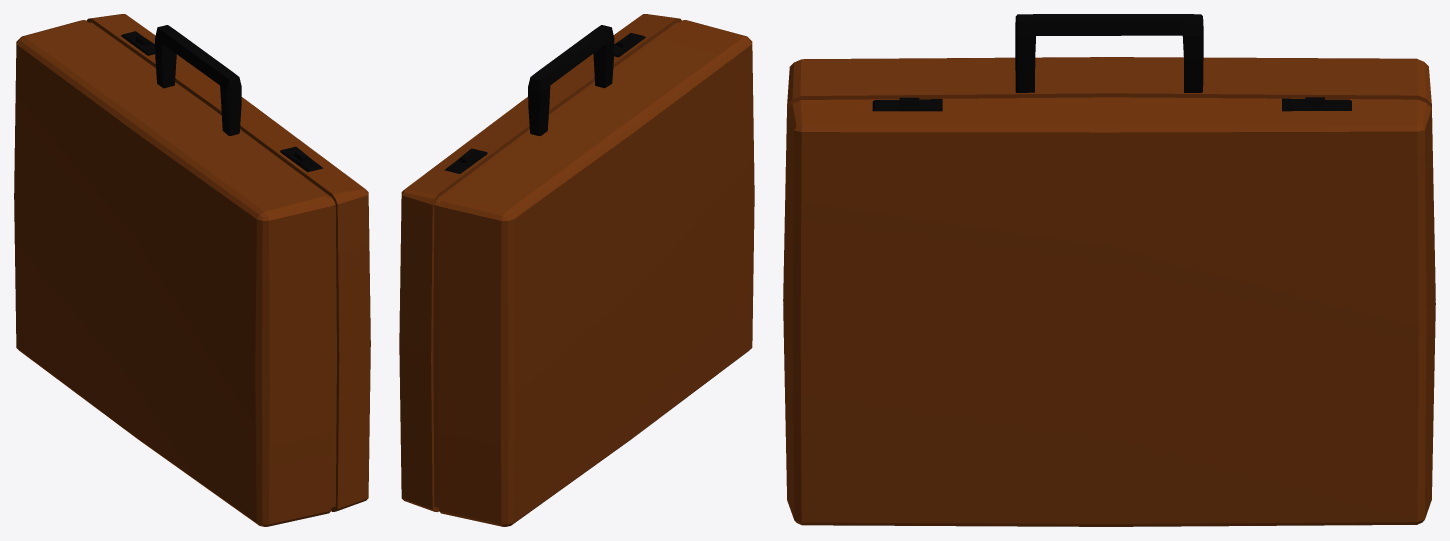
The model's file is SM_Briefcase.fbx.
3 renders of one model, left to right at view 1: azimuth 30°, elevation 25°; view 2: azimuth 150°, elevation 25°; view 3: azimuth 270°, elevation 25°, orthographic. The views are drawn at different scales.
Visible parts, largest first — view 1: SM_Briefcase; view 2: SM_Briefcase; view 3: SM_Briefcase.
Boxes of the visible parts, x1=… form: SM_Briefcase: x1=14, y1=14, x2=370, y2=526; SM_Briefcase: x1=399, y1=14, x2=754, y2=526; SM_Briefcase: x1=783, y1=14, x2=1435, y2=526.
Size of the model in its own units: 15.65 by 56.85 by 46.62.
Materials: 1 (1 with a texture image).
